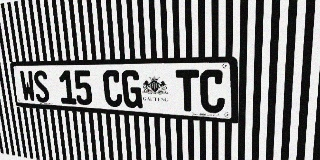1: (58, 70, 77, 104)
5: (74, 70, 93, 105)
C: (200, 69, 225, 114), (102, 70, 123, 107)
G: (121, 70, 143, 109)
S: (33, 70, 50, 103)
T: (175, 70, 199, 112)
W: (19, 70, 36, 102)
